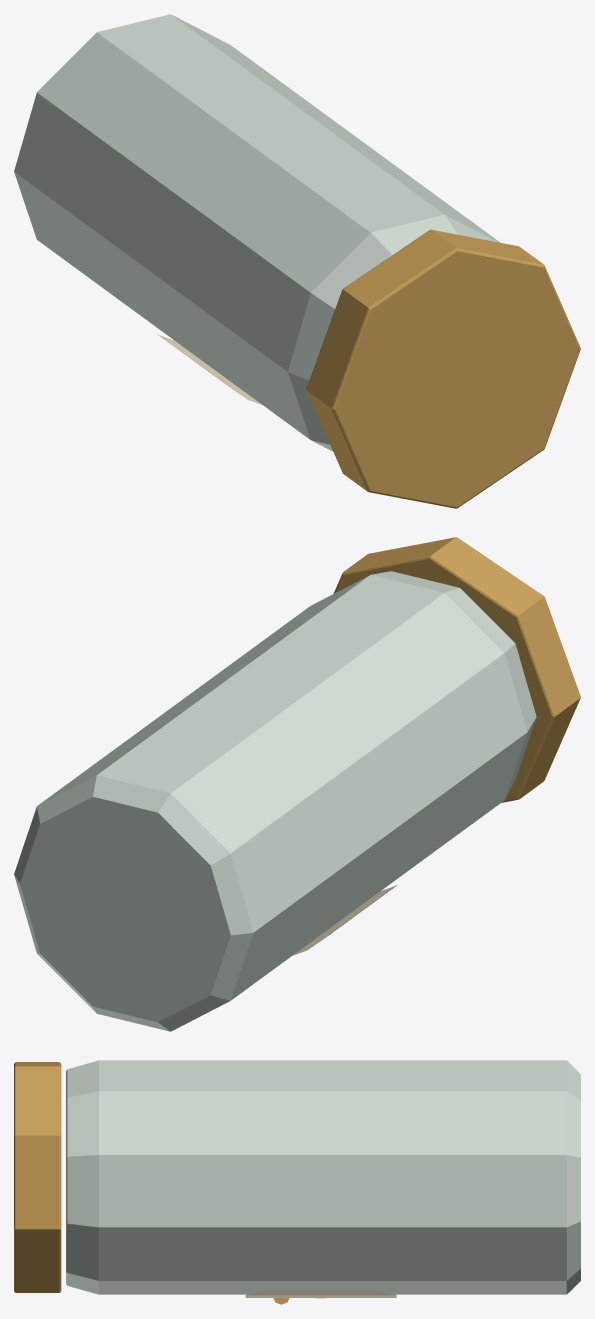
File: turmeric.glb
3 renders of one model, top to bottom at view 1: azimuth 30°, elevation 25°; view 2: azimuth 150°, elevation 25°; view 3: azimuth 270°, elevation 25°, orthographic. The views are drawn at different scales.
Parts seen in each view (by area): view 1: turmeric; view 2: turmeric; view 3: turmeric.
Boxes of the visible parts, x1=… form: turmeric: x1=14, y1=14, x2=580, y2=508; turmeric: x1=14, y1=537, x2=580, y2=1031; turmeric: x1=14, y1=1060, x2=580, y2=1304.
Bounding box in the file's own units: 0.052 × 0.0526 × 0.12.
